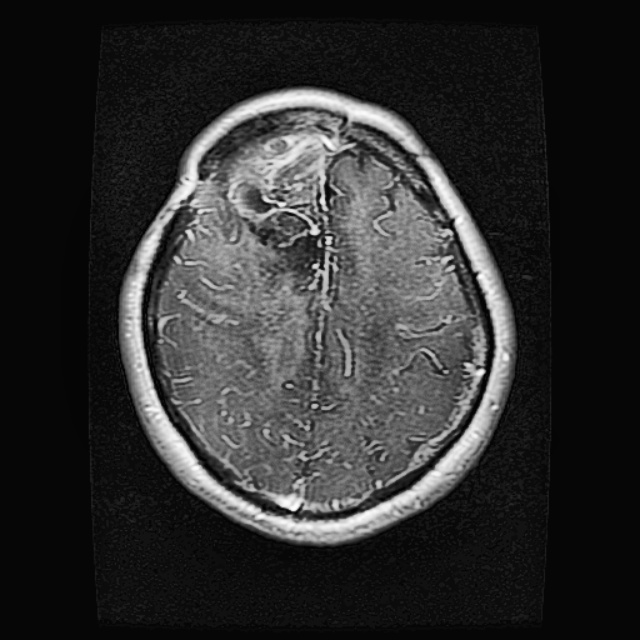Meningioma: (194, 129, 354, 259)
